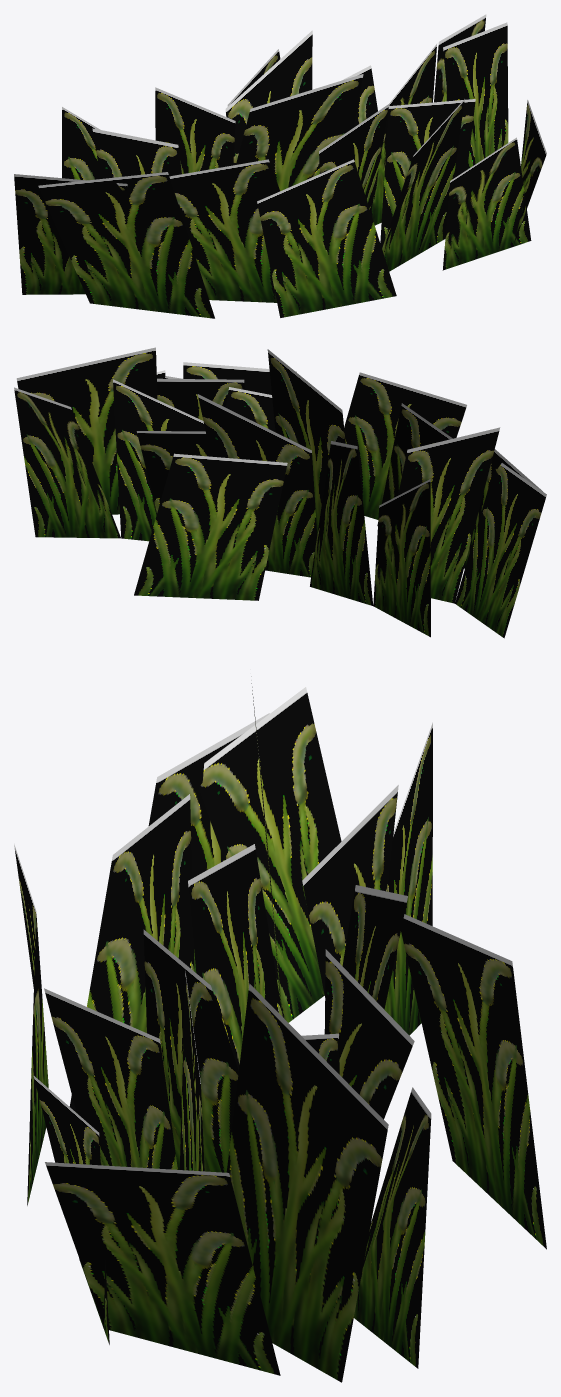
File: grass_11.fbx
3 views of the same model, one above another, from view 1: azimuth 30°, elevation 25°; view 2: azimuth 150°, elevation 25°; view 3: azimuth 270°, elevation 25° (orthographic). The views are drawn at different scales.
Parts seen in each view (by area): view 1: polySurface264; view 2: polySurface264; view 3: polySurface264.
Boxes of the visible parts, bbox=[...] form: polySurface264: bbox=[14, 14, 546, 318]; polySurface264: bbox=[14, 347, 546, 638]; polySurface264: bbox=[14, 676, 546, 1382].
Size of the model in its own units: 1.8 by 0.6224 by 0.8929.
